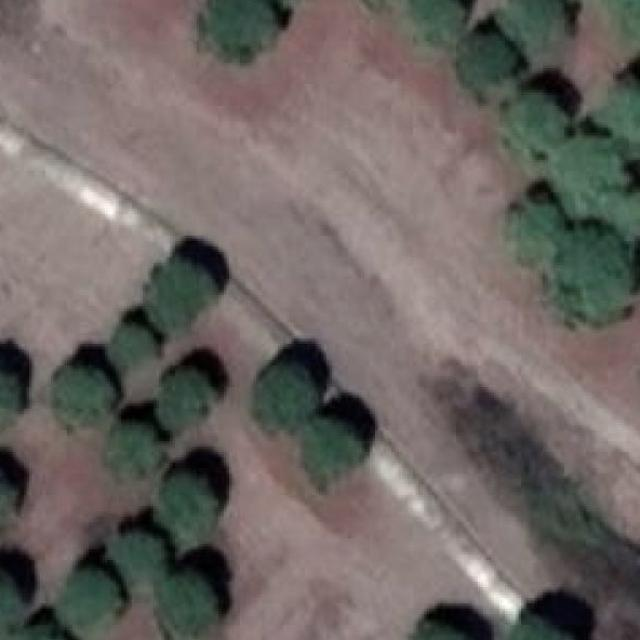Tree: (556, 234, 626, 323), (145, 261, 215, 336), (559, 136, 618, 215), (199, 0, 275, 61), (300, 419, 364, 490), (507, 90, 564, 163), (58, 570, 121, 636), (164, 474, 218, 549), (51, 366, 113, 428), (156, 574, 215, 639), (258, 366, 318, 428), (156, 369, 215, 426), (458, 36, 512, 95), (510, 203, 562, 263), (102, 422, 161, 474), (500, 0, 565, 44), (605, 81, 640, 154), (112, 533, 164, 582), (107, 324, 156, 366), (415, 0, 462, 39), (0, 365, 22, 436), (500, 621, 581, 640), (608, 190, 640, 238), (0, 574, 21, 639), (408, 625, 481, 640), (616, 0, 640, 43), (0, 470, 16, 532), (10, 627, 67, 640)
